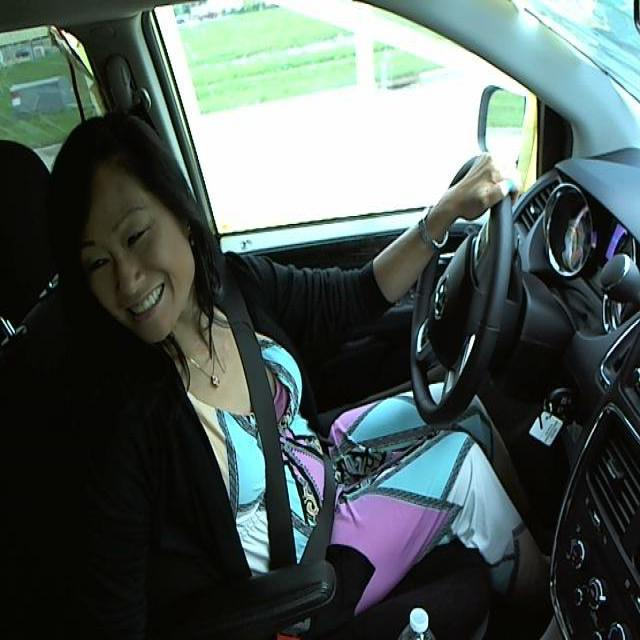seatbelt: (206, 300, 348, 553)
